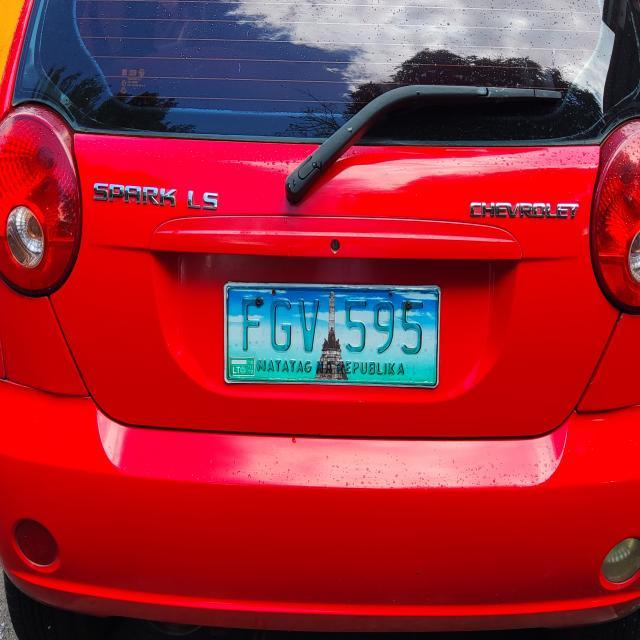LicensePlate: (216, 275, 447, 396)
